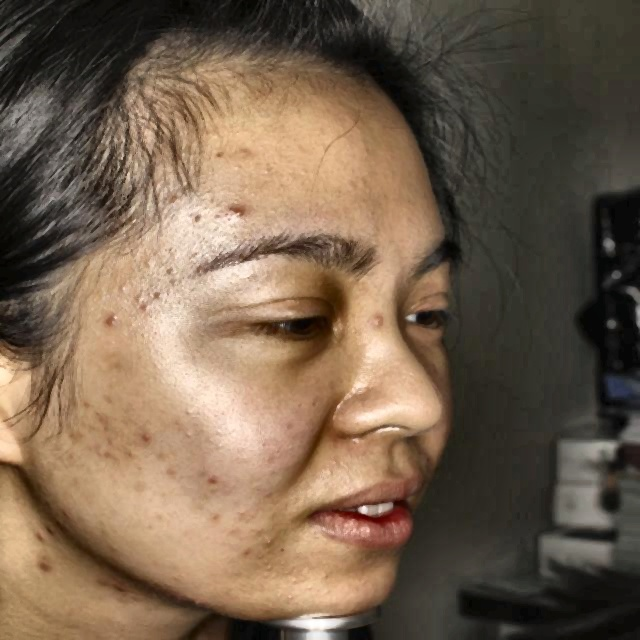pustule: (98, 442, 134, 471), (229, 196, 257, 230), (95, 307, 122, 336), (25, 519, 54, 540), (30, 550, 54, 574), (60, 422, 86, 444), (368, 307, 390, 333)
